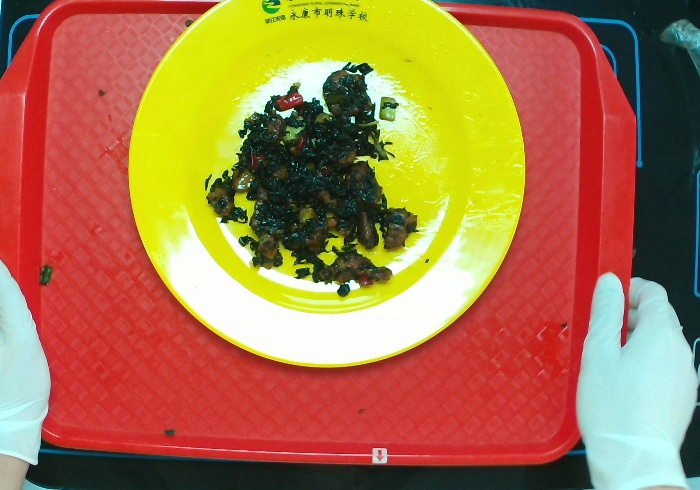YKMZ-Huang_Se_Mian_Pan: (127, 1, 526, 369)
